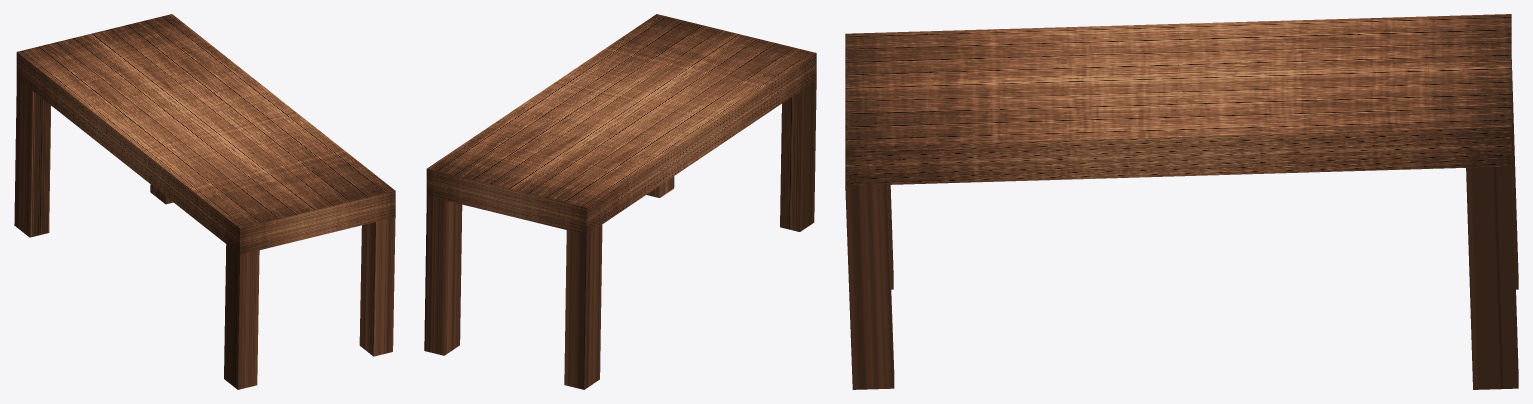
The model's file is mesa777.fbx.
3 views of the same model, side by side, from view 1: azimuth 30°, elevation 25°; view 2: azimuth 150°, elevation 25°; view 3: azimuth 270°, elevation 25° (orthographic). The views are drawn at different scales.
Parts seen in each view (by area): view 1: Cubo; view 2: Cubo; view 3: Cubo.
Part boxes in pixels (x1=…): Cubo: x1=14, y1=14, x2=395, y2=389; Cubo: x1=424, y1=14, x2=816, y2=389; Cubo: x1=845, y1=14, x2=1518, y2=389.
Bounding box in the file's own units: 200 × 217 × 503.
1 material, 1 textured.
